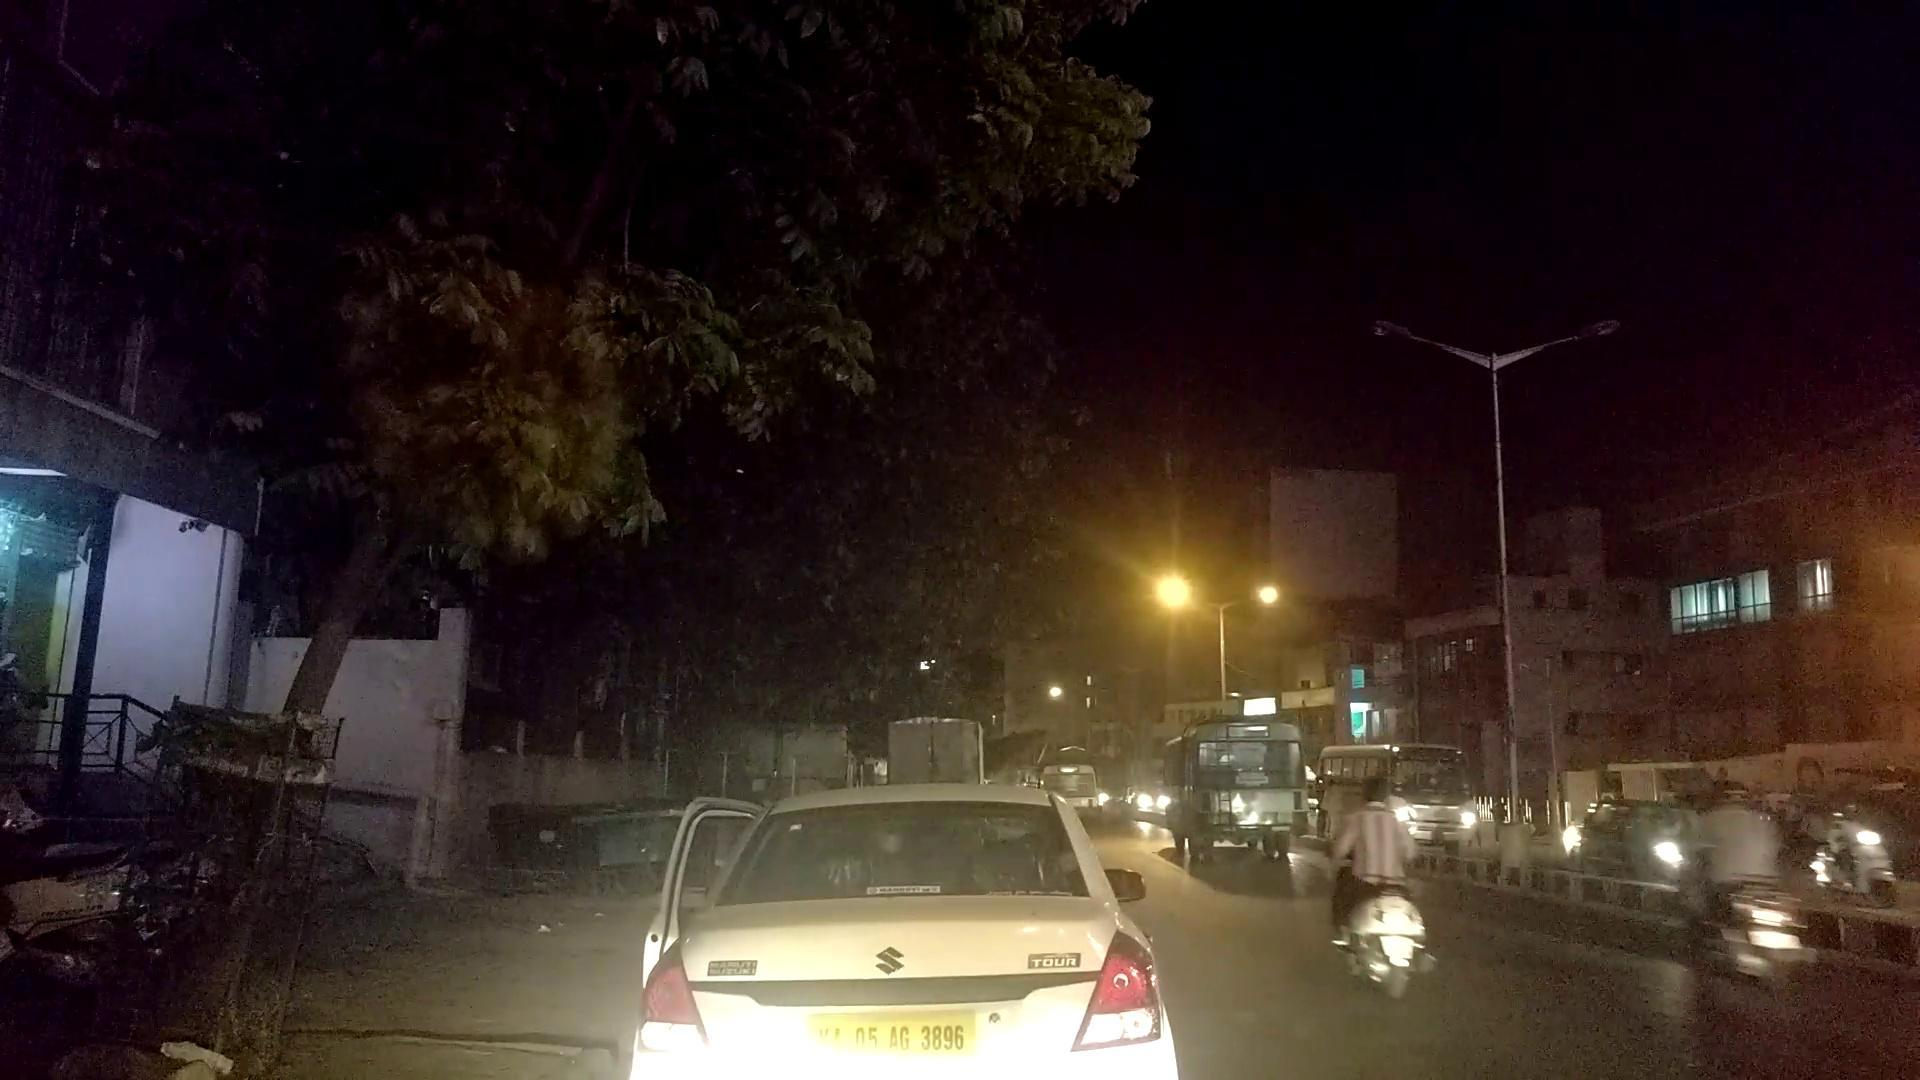on: (829, 562, 1639, 843)
